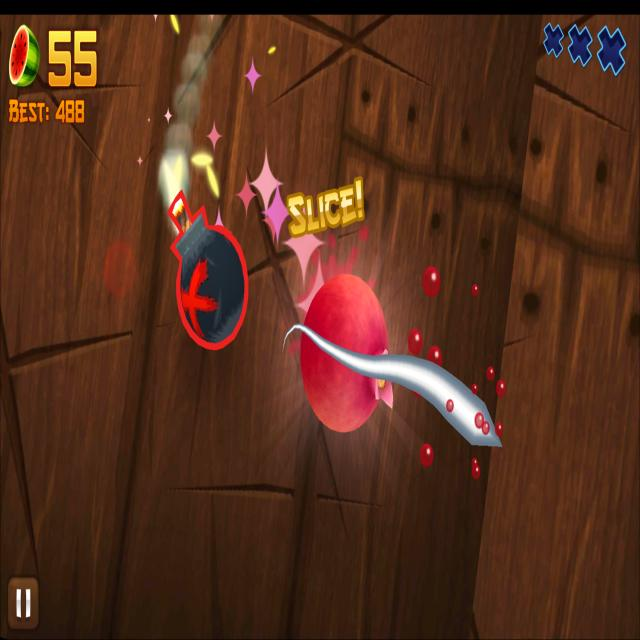bomb: (166, 188, 249, 350)
fruit: (301, 274, 394, 434)
